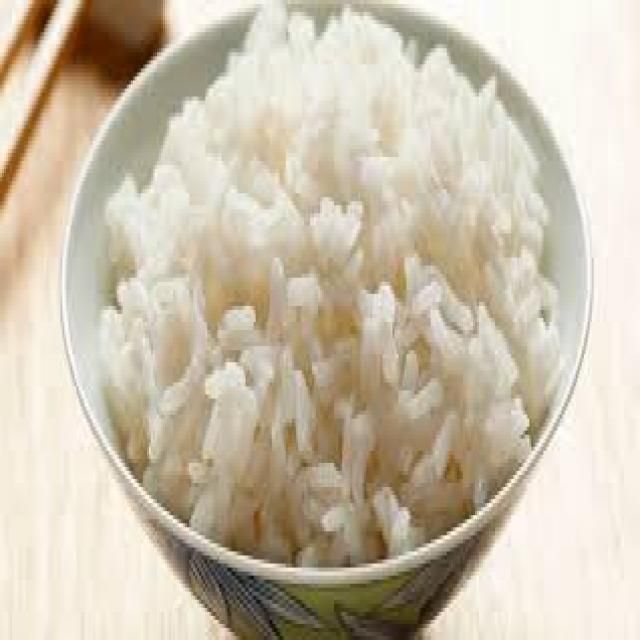White Rice: (67, 18, 588, 616)
